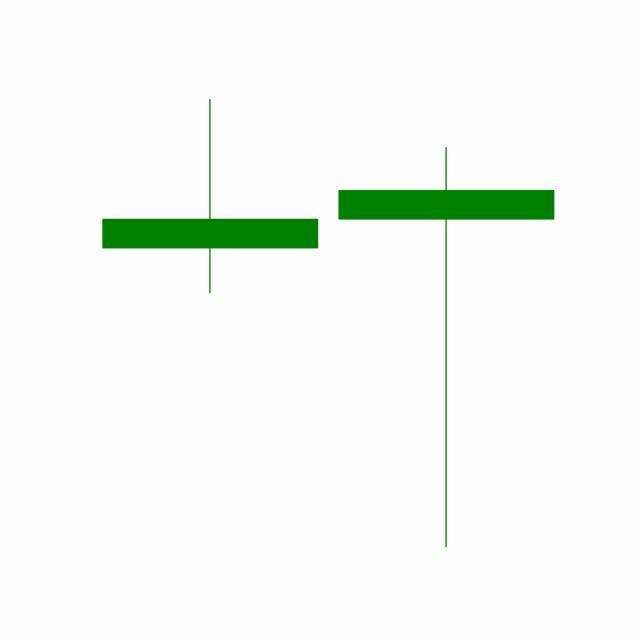Spinning Top: (328, 143, 566, 552)
